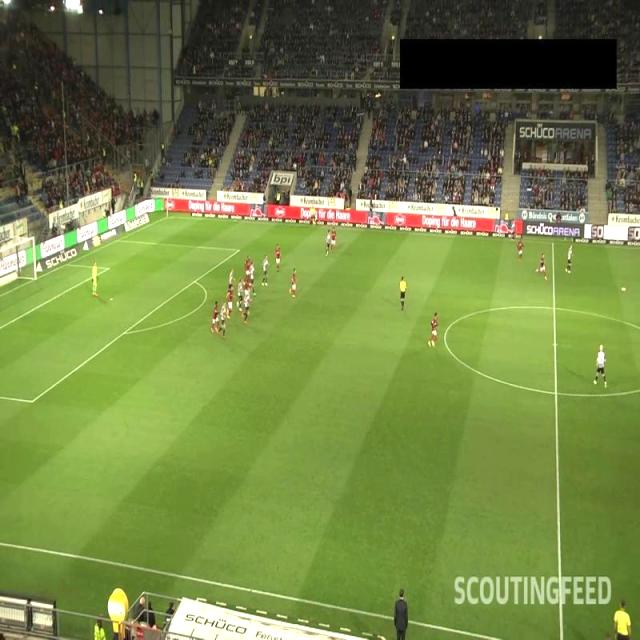bigarea_bottom_inner: (26, 394, 37, 406)
bigarea_top_inner: (232, 244, 242, 255)
bigarea_top_outter: (112, 233, 123, 244)
bottom_arc_area_intersection: (120, 326, 130, 336)
corner: (162, 210, 172, 221)
halfcircle_bottom: (551, 387, 562, 398)
halfcircle_top: (548, 302, 560, 312)
midline_top_intersection: (546, 236, 558, 248)
smallarea_bottom_inner: (0, 322, 8, 332)
smallarea_top_inner: (101, 262, 112, 274)
smallarea_top_outter: (62, 257, 74, 268)
top_arc_area_intersection: (190, 274, 200, 285)
